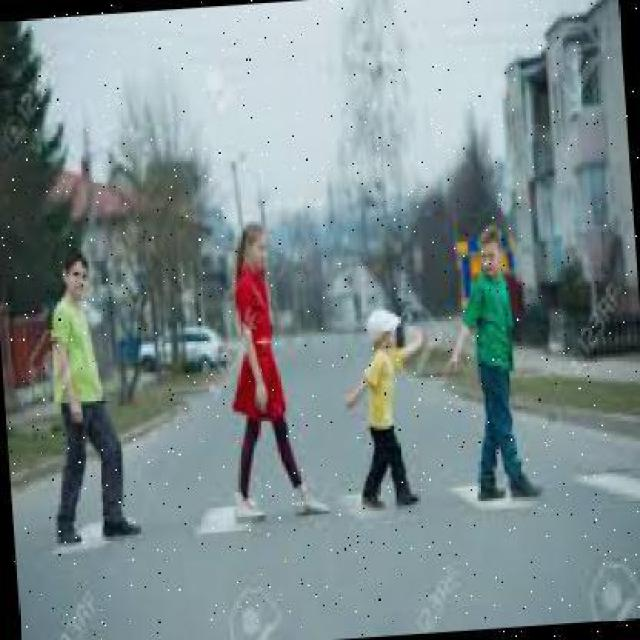Person: (220, 219, 329, 524), (39, 246, 139, 540), (438, 224, 542, 502), (341, 307, 434, 507)
